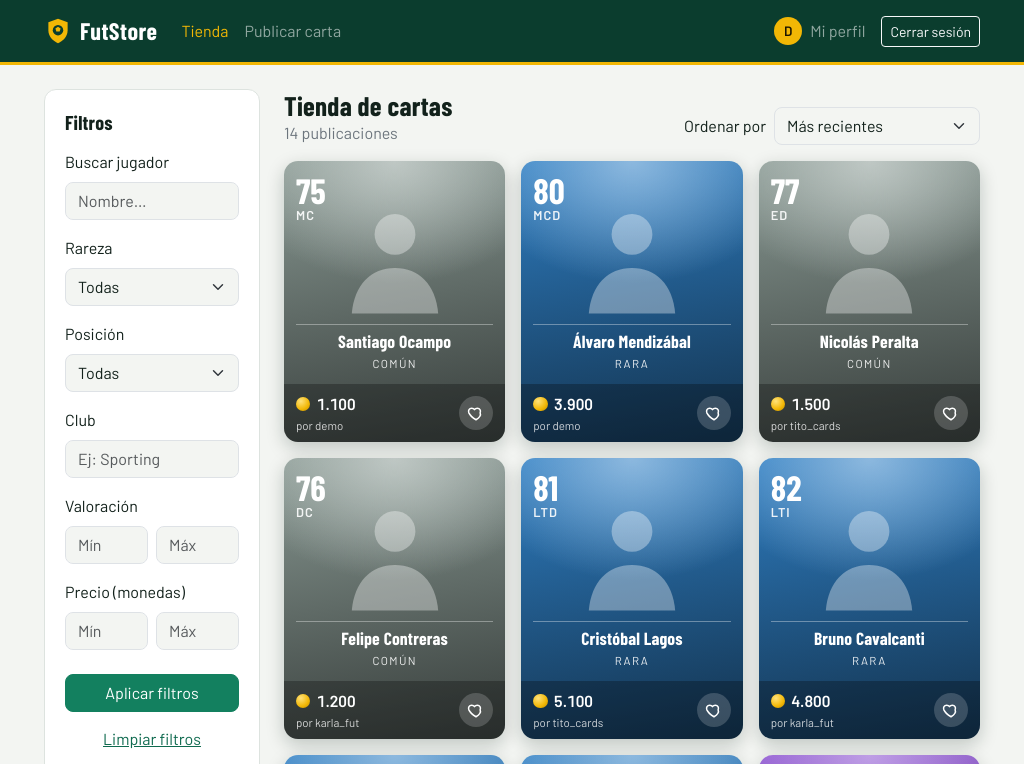
Test: Rutas privadas y sesión (Context) › cerrar sesión limpia el contexto y vuelve a la portada
Click the button "Cerrar sesión" at (931, 31), box [881, 16, 980, 46]
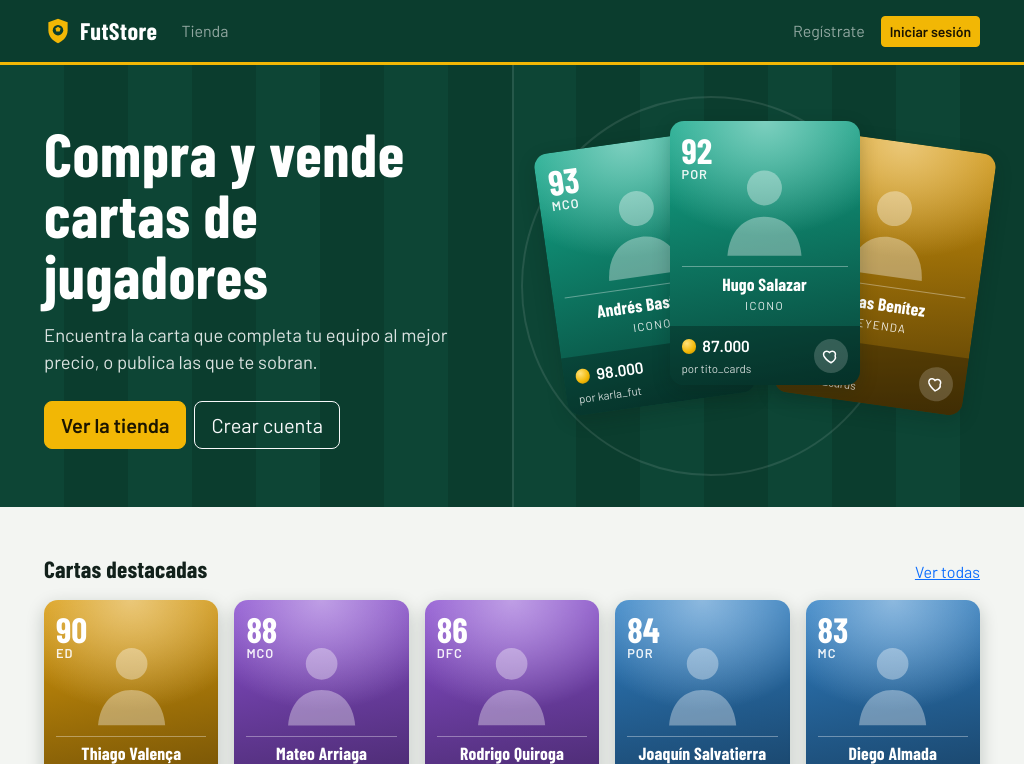
Now the heading "Compra y vende cartas de jugadores" is shown, box [44, 123, 430, 306]
